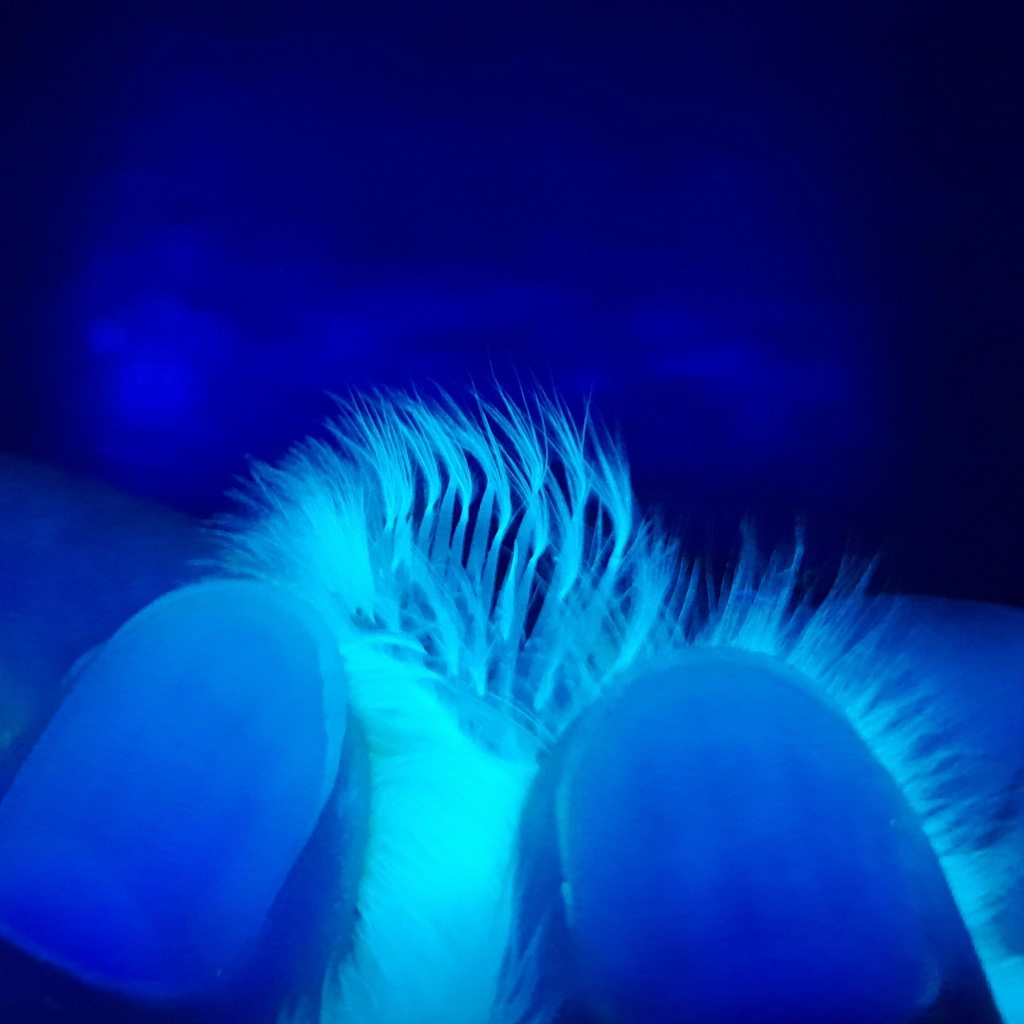female: (378, 452, 661, 771)
